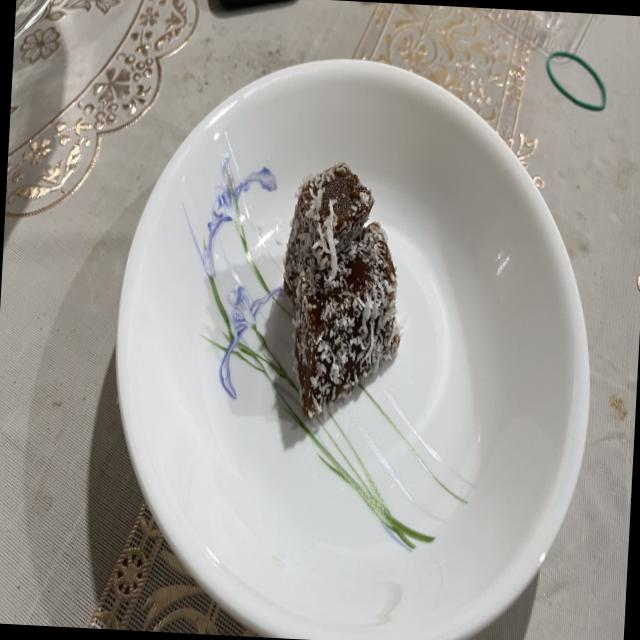kaswi: (293, 222, 403, 420), (283, 157, 375, 304)
